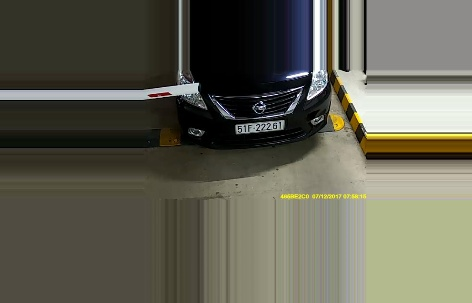plate: (234, 119, 284, 134)
